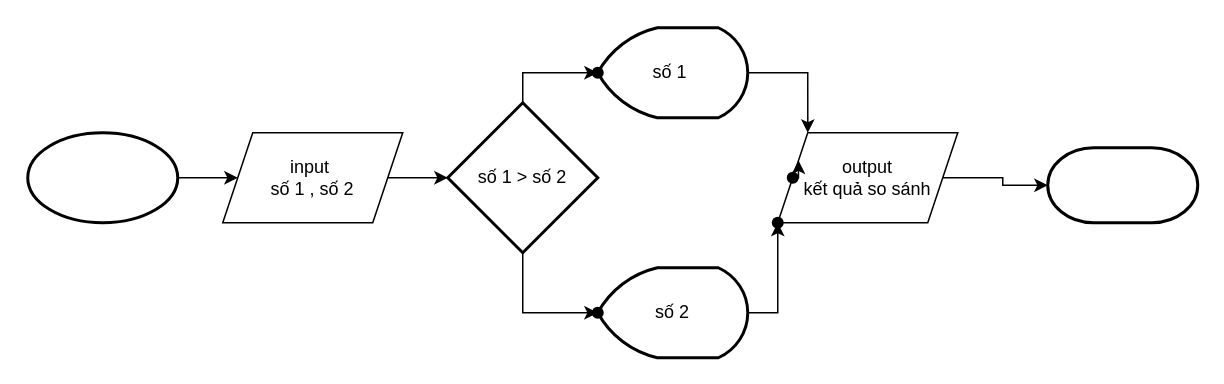
The diagram is 1224 pixels wide and 384 high, and some of its shapes have lost their labels. The shapes that lost their labels are listed below. From the top down, each one's centre as x and y in pixels, then its label:
At [102,177]: "star".
At [1122,185]: "end".
